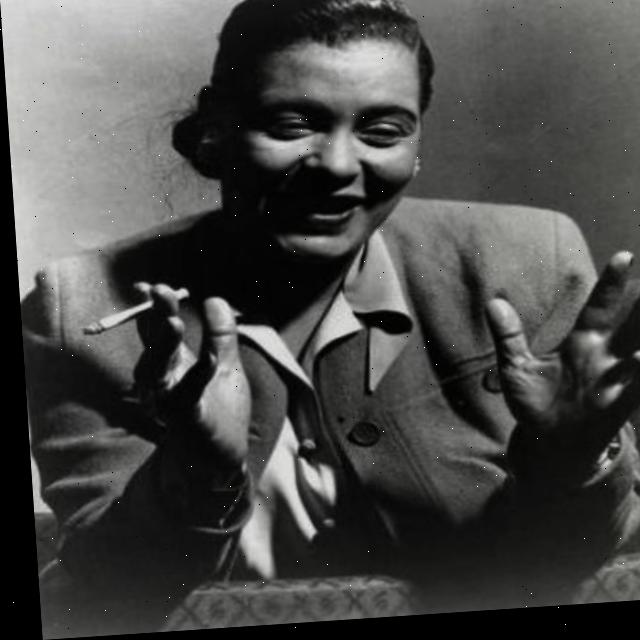cigarette: (73, 289, 189, 341)
